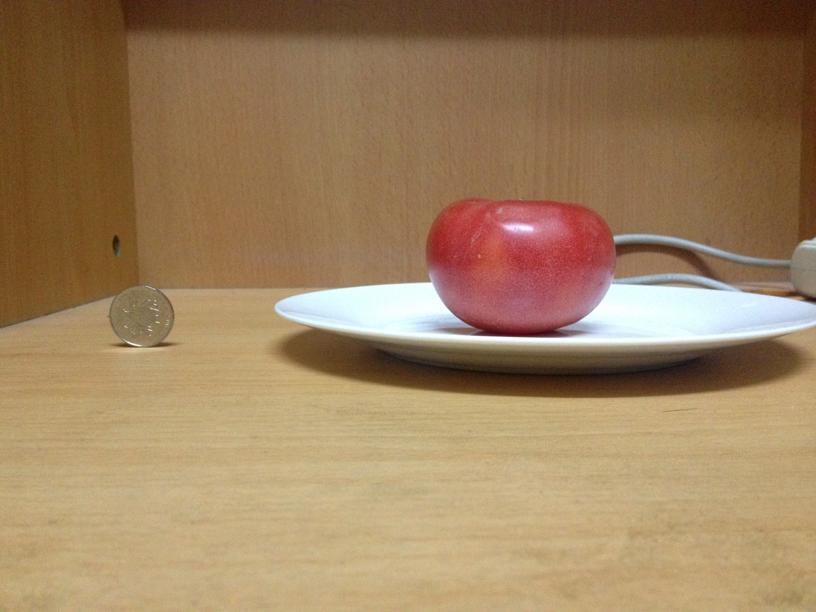coin: (106, 280, 176, 350)
tomato: (416, 192, 617, 330)
